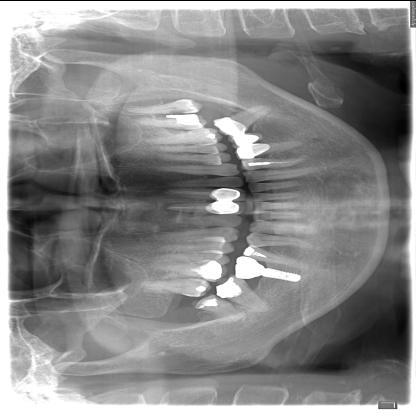ITI: (262, 264, 306, 286)
